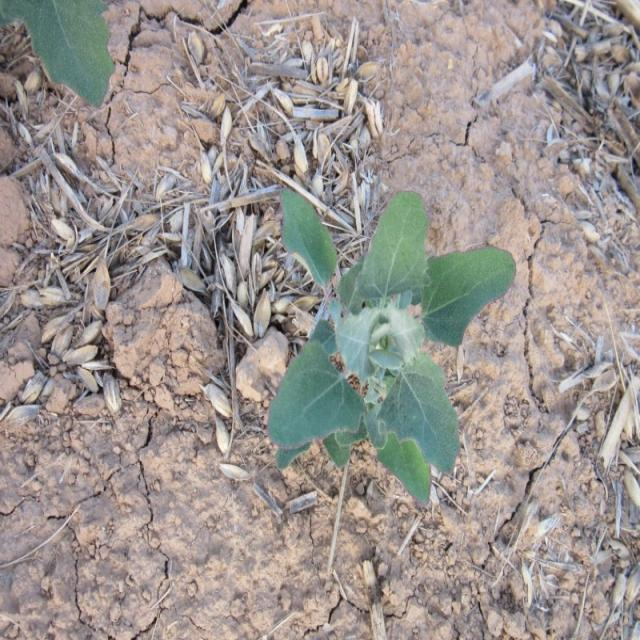ca: (270, 183, 516, 504)
